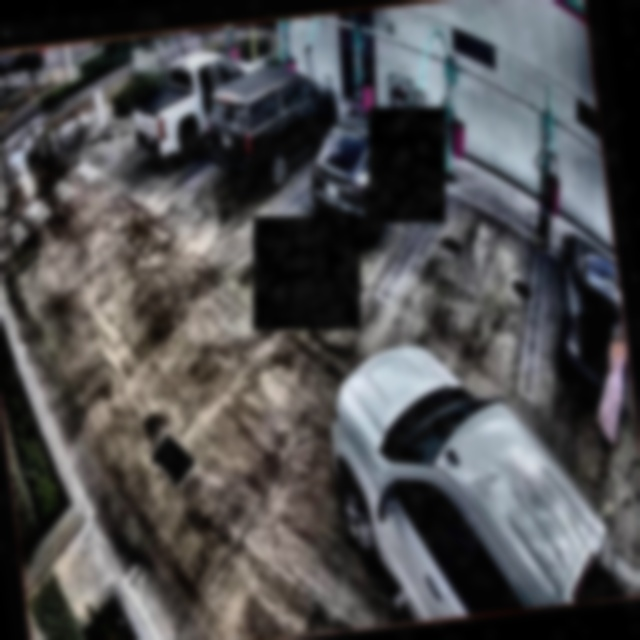Car: (320, 322, 626, 630), (201, 59, 345, 192), (304, 103, 429, 248), (126, 44, 267, 164)
